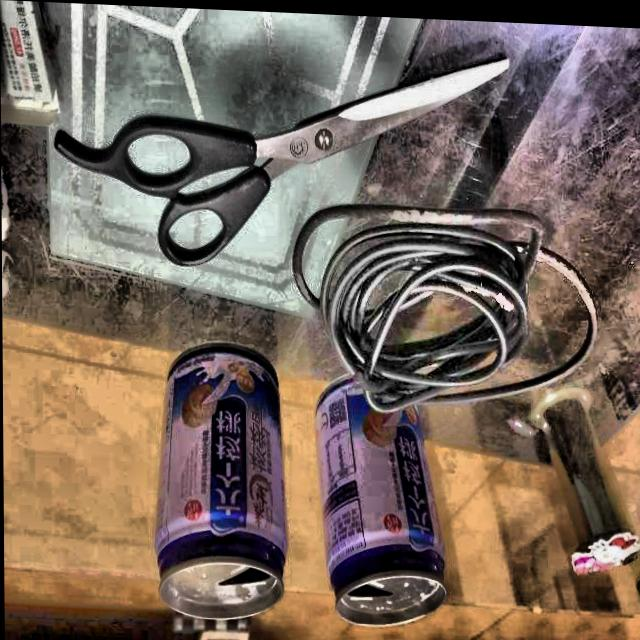can: (148, 335, 294, 632), (308, 372, 446, 637)
